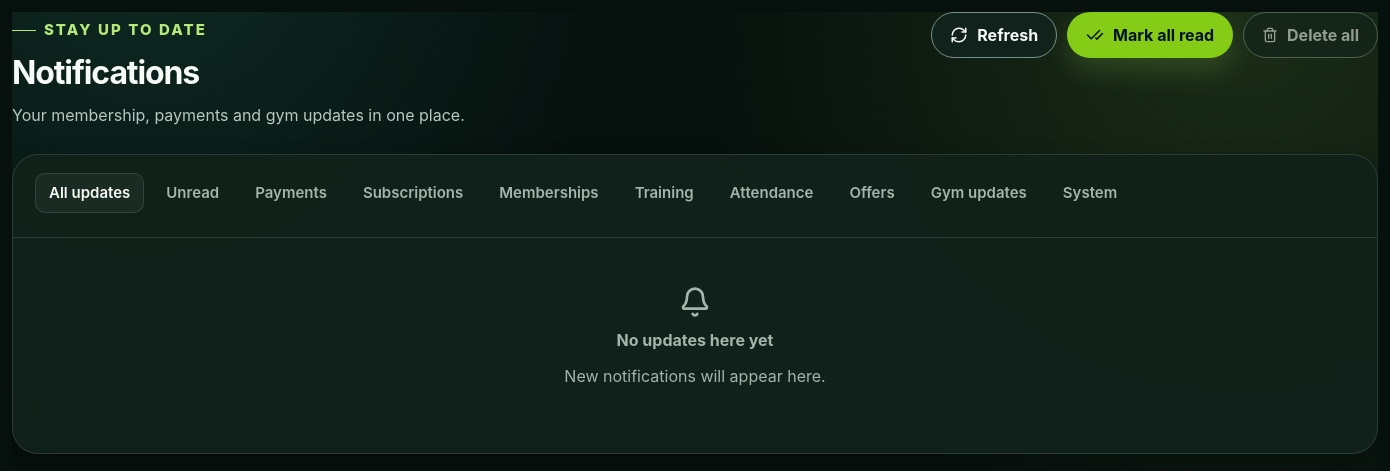
handles empty inboxes without misleading pagination controls
The width and height of the screenshot is (1390, 471).
What coordinates should you click on to do the following:
click the button "Unread"
I would click on:
 (193, 194)
Its box is [152,174,233,214].
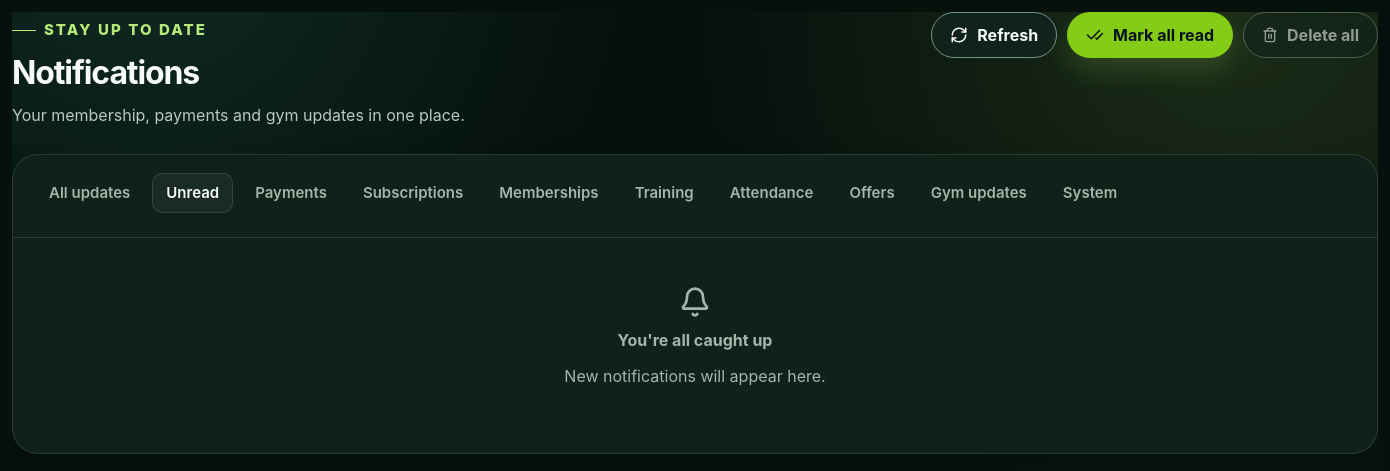
Check: the text "You're all caught up" is shown, box [618,328,772,354]
